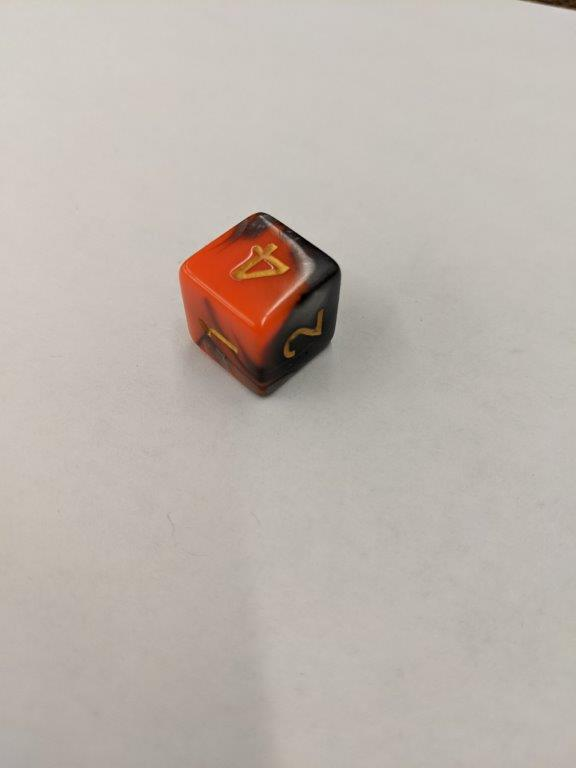d6-4: (178, 209, 344, 398)
